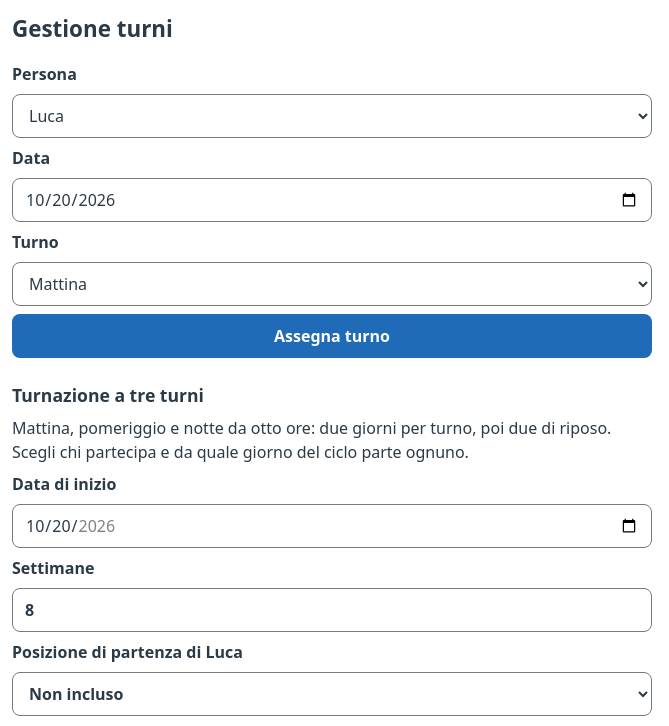
Test: says so when the database reports a clash that the list did not show
The width and height of the screenshot is (669, 726).
In the date field labelled "Data": (332,200) [12,178,652,222], type "2026-10-24"
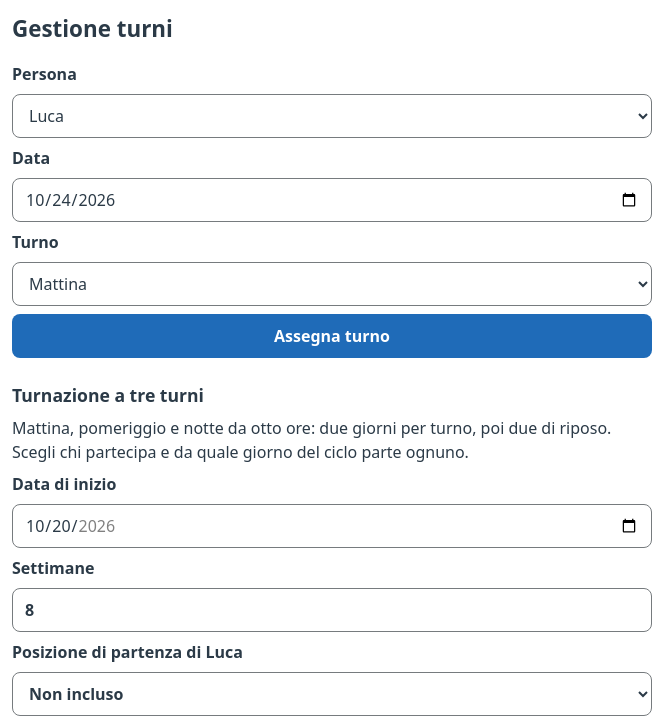
Click the button "Assegna turno": (332,336) [12,314,652,358]
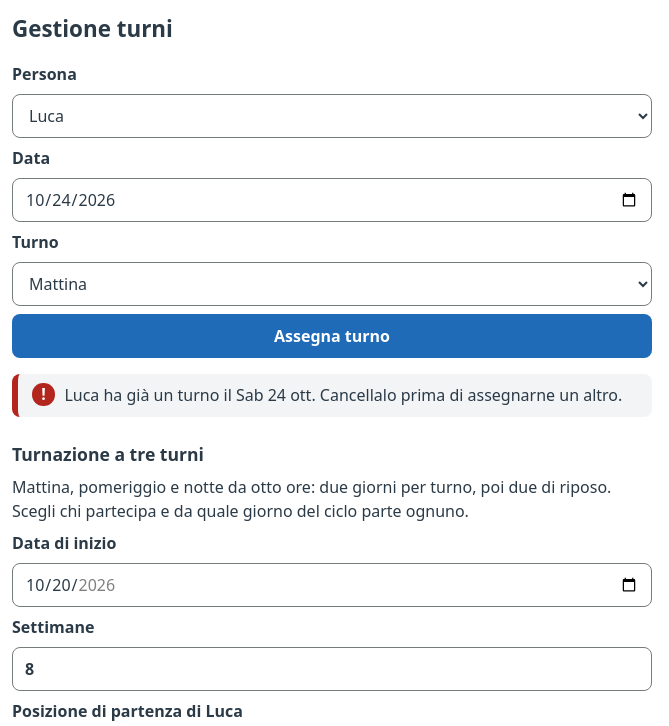
Check: the message shows "ha già un turno", box [64,384,622,406]
